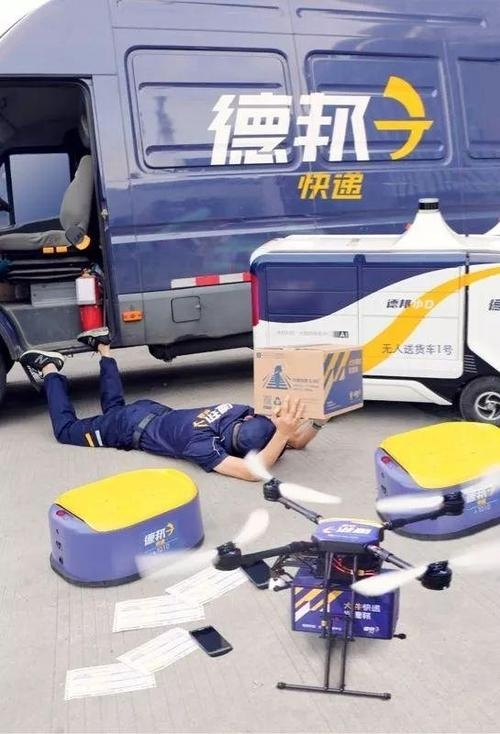falling: (20, 324, 330, 481)
